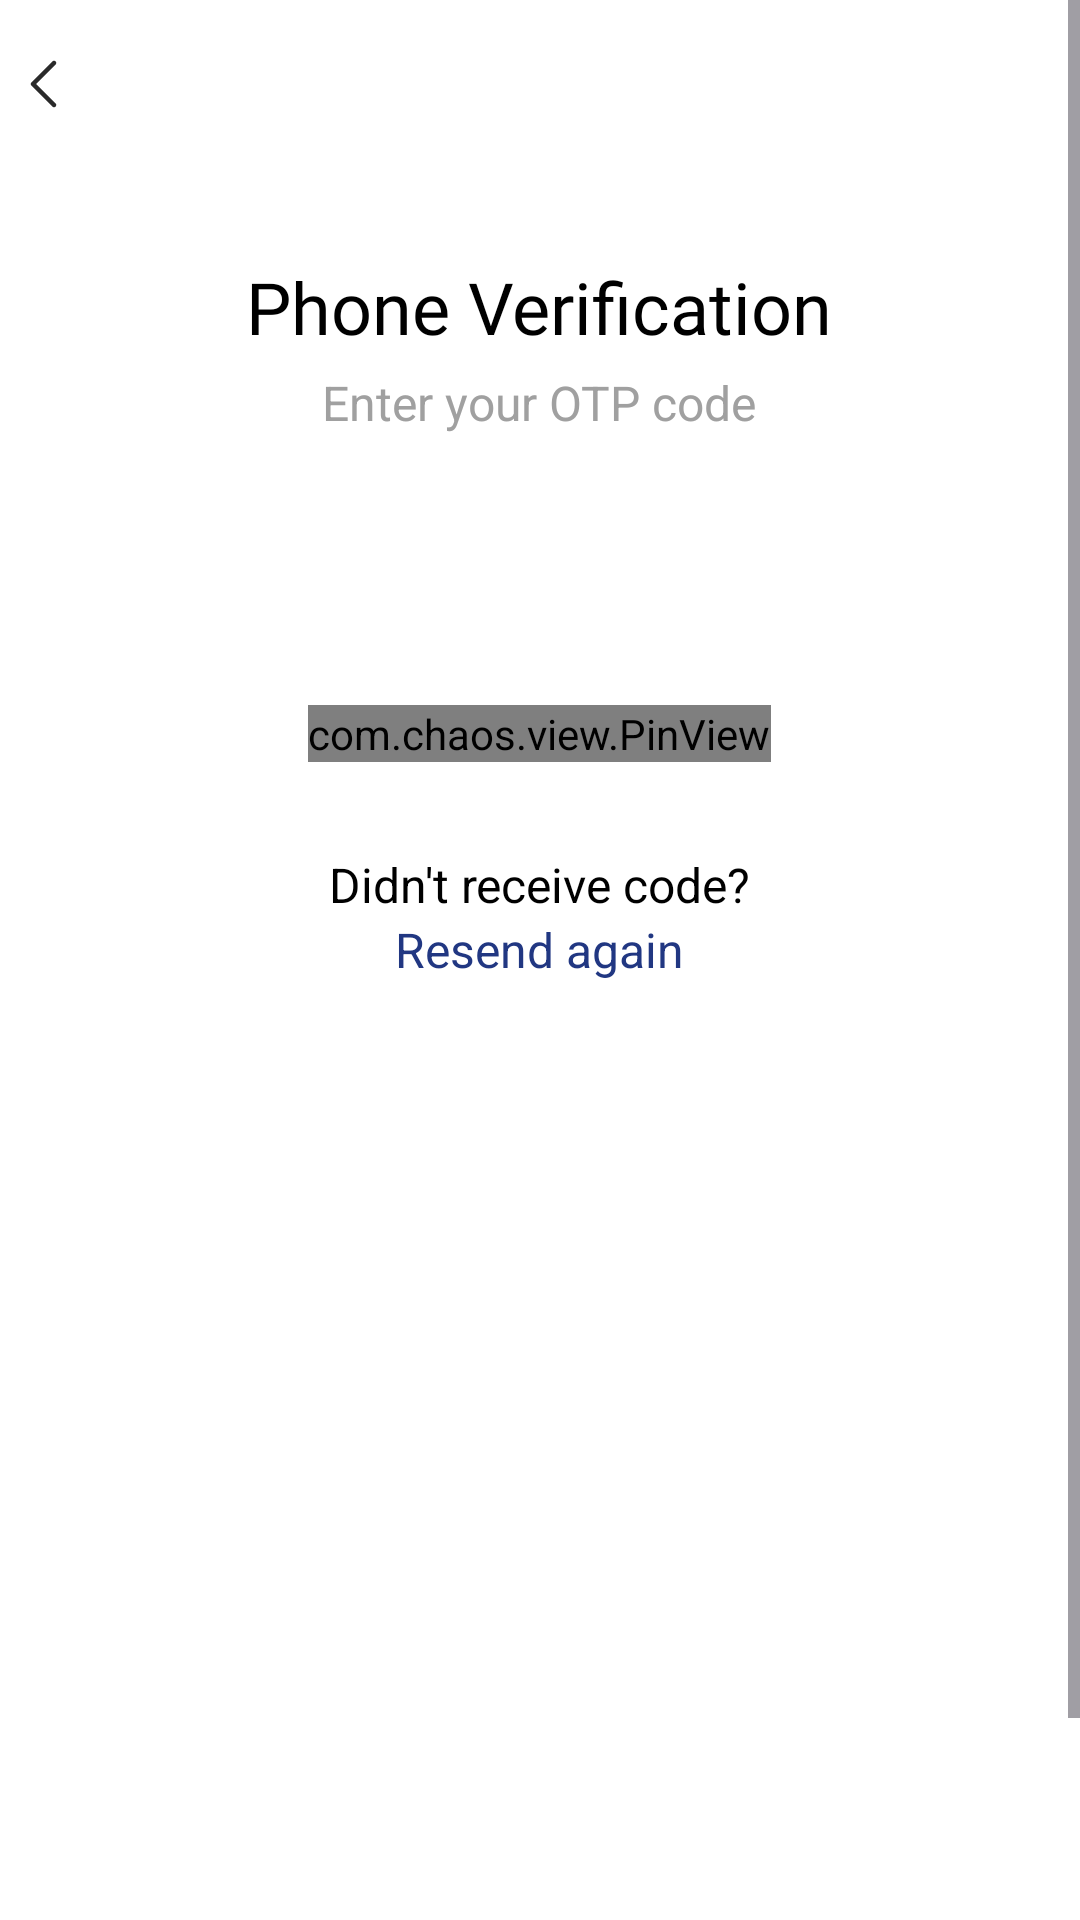

Icon click points for this 1080 x 1920 phone screenshot, format [x,y]:
angle left: [43,84]
